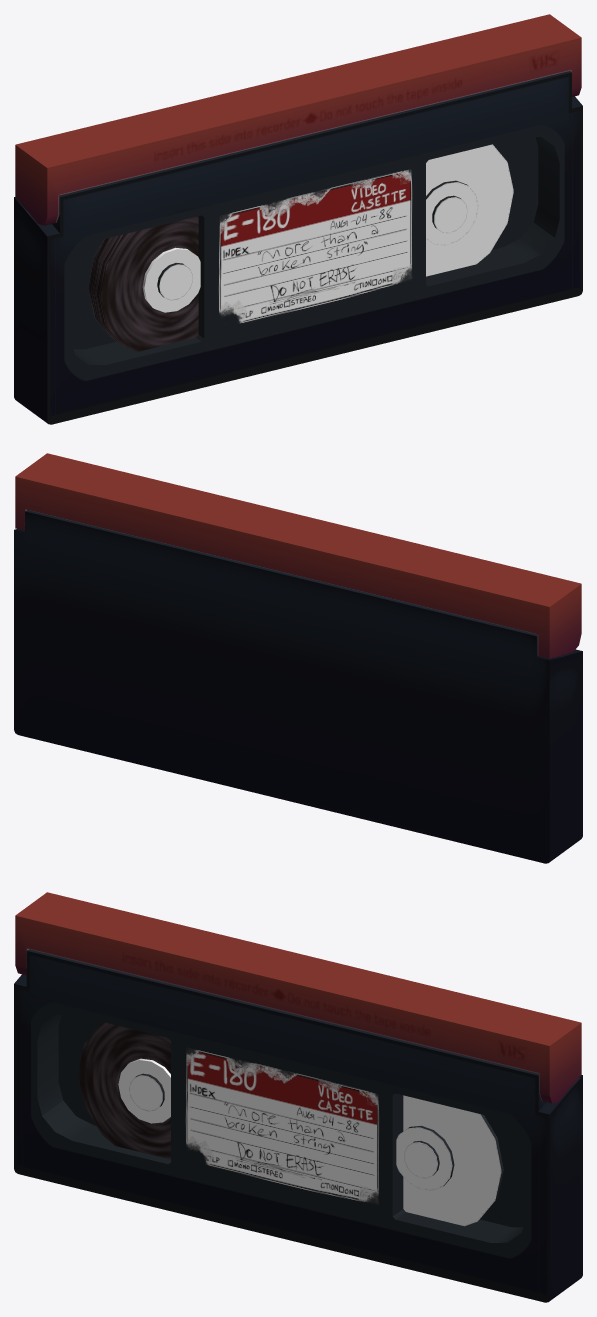
The model's file is VHS_BrokenString_Textured.fbx.
3 views of the same model, one above another, from view 1: azimuth 30°, elevation 25°; view 2: azimuth 150°, elevation 25°; view 3: azimuth 330°, elevation 25° (orthographic).
Parts seen in each view (by area): view 1: pasted__polySurface25, pasted__polySurface24, polySurface29, polySurface28; view 2: pasted__polySurface25, pasted__polySurface24; view 3: pasted__polySurface25, pasted__polySurface24, polySurface29, polySurface28.
Part boxes in pixels (left/top/right/bottom): pasted__polySurface25: left=14, top=71, right=582, bottom=424; pasted__polySurface24: left=15, top=14, right=581, bottom=225; polySurface29: left=88, top=180, right=478, bottom=351; polySurface28: left=426, top=144, right=513, bottom=276; pasted__polySurface25: left=14, top=510, right=582, bottom=863; pasted__polySurface24: left=15, top=453, right=581, bottom=658; pasted__polySurface25: left=14, top=949, right=582, bottom=1302; pasted__polySurface24: left=15, top=892, right=581, bottom=1103; polySurface29: left=78, top=1022, right=454, bottom=1190; polySurface28: left=403, top=1095, right=503, bottom=1226.
Bounding box in the file's own units: 123 × 56.21 × 13.2.
Materials: 1 (1 with a texture image).
